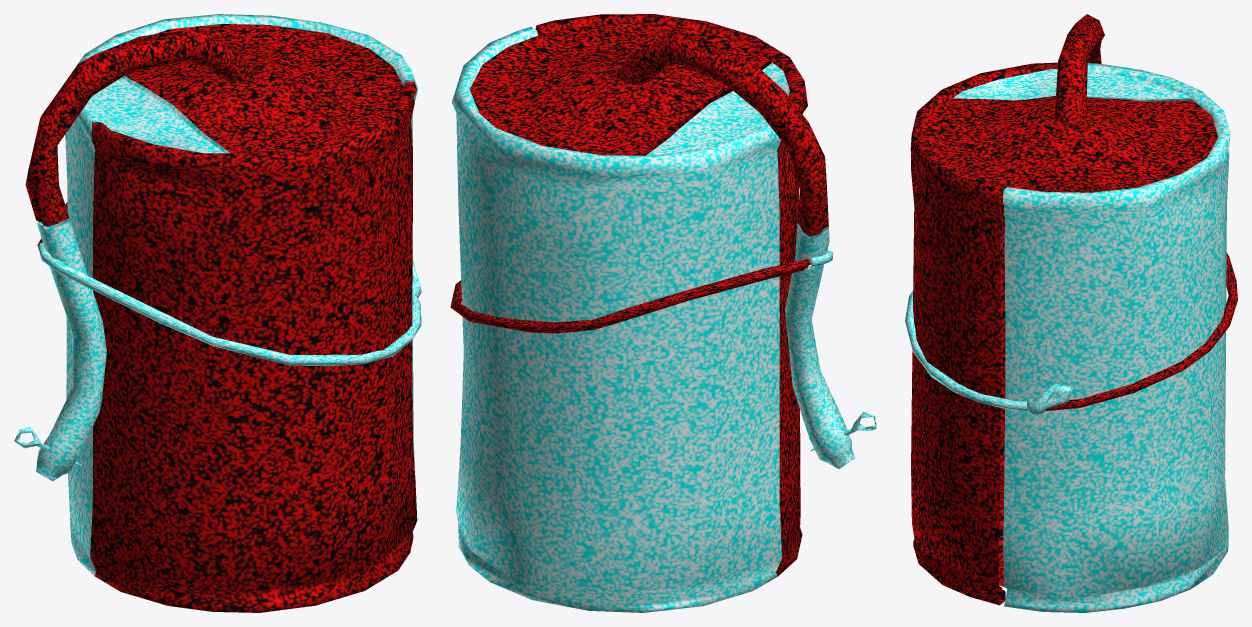
File: SM_Bomb_01_LGS.fbx
The picture shows the model from 3 angles, left to right: view 1: azimuth 30°, elevation 25°; view 2: azimuth 150°, elevation 25°; view 3: azimuth 270°, elevation 25°; orthographic projection. The views are drawn at different scales.
Parts seen in each view (by area): view 1: SM_Bomb_01_LGS; view 2: SM_Bomb_01_LGS; view 3: SM_Bomb_01_LGS.
Boxes of the visible parts, x1=… form: SM_Bomb_01_LGS: x1=14, y1=14, x2=421, y2=612; SM_Bomb_01_LGS: x1=450, y1=14, x2=876, y2=612; SM_Bomb_01_LGS: x1=905, y1=14, x2=1237, y2=612.
Size of the model in its own units: 18.6 by 23.24 by 14.64.
